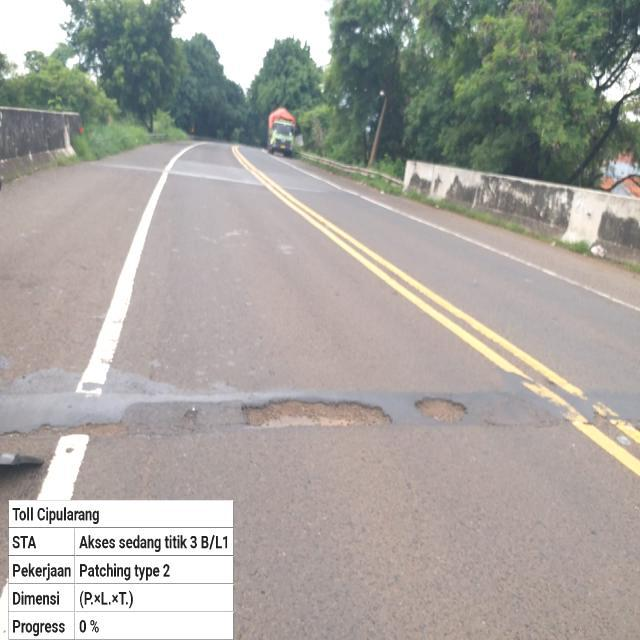Buraco: (238, 396, 396, 432), (27, 418, 132, 441), (412, 394, 472, 426)
